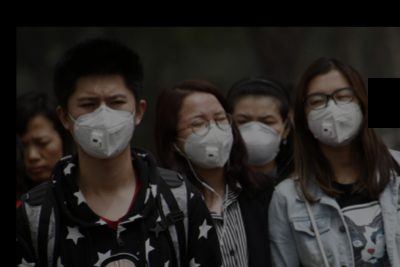with_mask: (67, 87, 137, 159), (304, 84, 365, 145), (175, 105, 234, 166), (231, 107, 286, 165)
without_mask: (18, 130, 63, 182)
